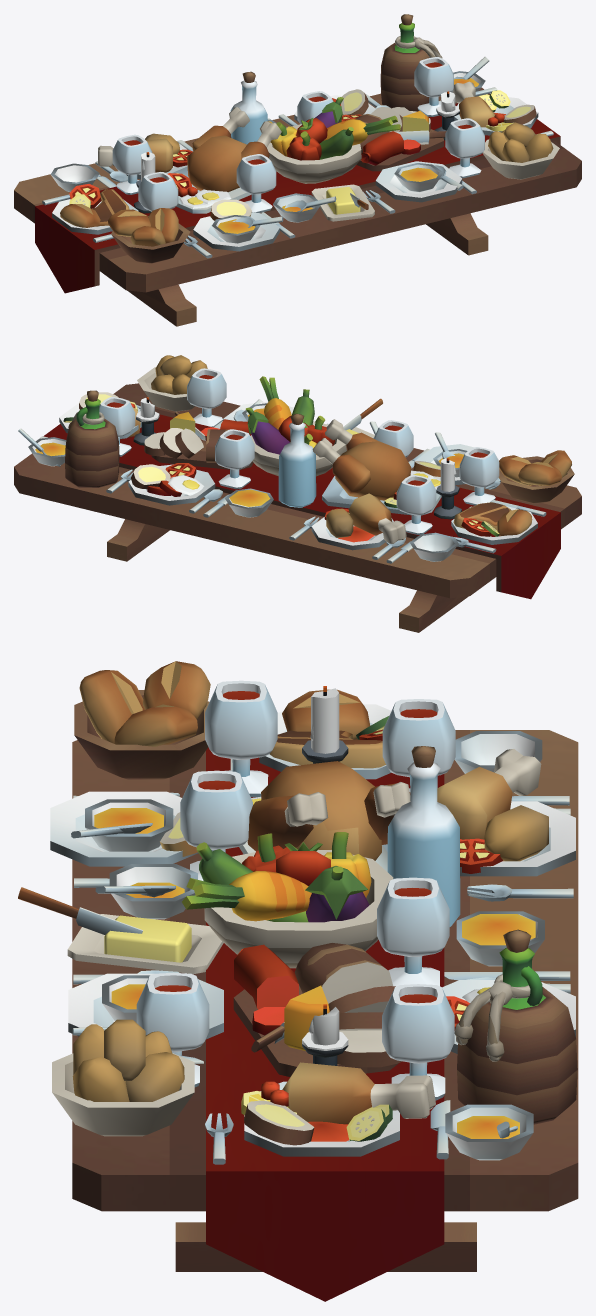
Rendered from table_laden_with_food.fbx.
The picture shows the model from 3 angles, top to bottom: view 1: azimuth 30°, elevation 25°; view 2: azimuth 150°, elevation 25°; view 3: azimuth 270°, elevation 25°; orthographic projection. The views are drawn at different scales.
Visible parts, largest first — view 1: table_laden_with_food; view 2: table_laden_with_food; view 3: table_laden_with_food.
Boxes of the visible parts, box(x1,y1,x2,y2) form: table_laden_with_food: box(14, 14, 581, 326); table_laden_with_food: box(14, 355, 581, 632); table_laden_with_food: box(18, 661, 578, 1301).
Bounding box in the file's own units: 359 × 129 × 186.
